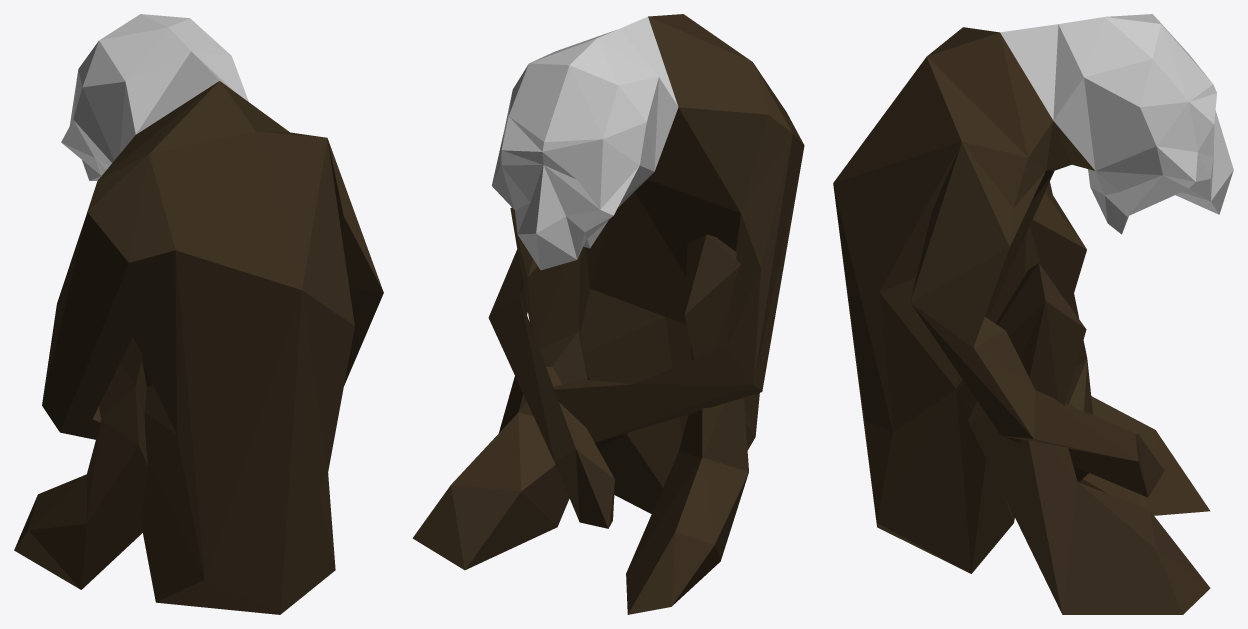
File: CHESTBIG_ORCMUMMY.OBJ
3 renders of one model, left to right at view 1: azimuth 30°, elevation 25°; view 2: azimuth 150°, elevation 25°; view 3: azimuth 270°, elevation 25°, orthographic. The views are drawn at different scales.
Visible parts, largest first — view 1: CHESTBIG_ORCMUMMY; view 2: CHESTBIG_ORCMUMMY; view 3: CHESTBIG_ORCMUMMY.
Part boxes in pixels (x1,y1,x2,y2): CHESTBIG_ORCMUMMY: (14, 14, 383, 614); CHESTBIG_ORCMUMMY: (412, 14, 804, 614); CHESTBIG_ORCMUMMY: (833, 14, 1233, 614).
Size of the model in its own units: 0.6709 by 1.16 by 0.7865.
